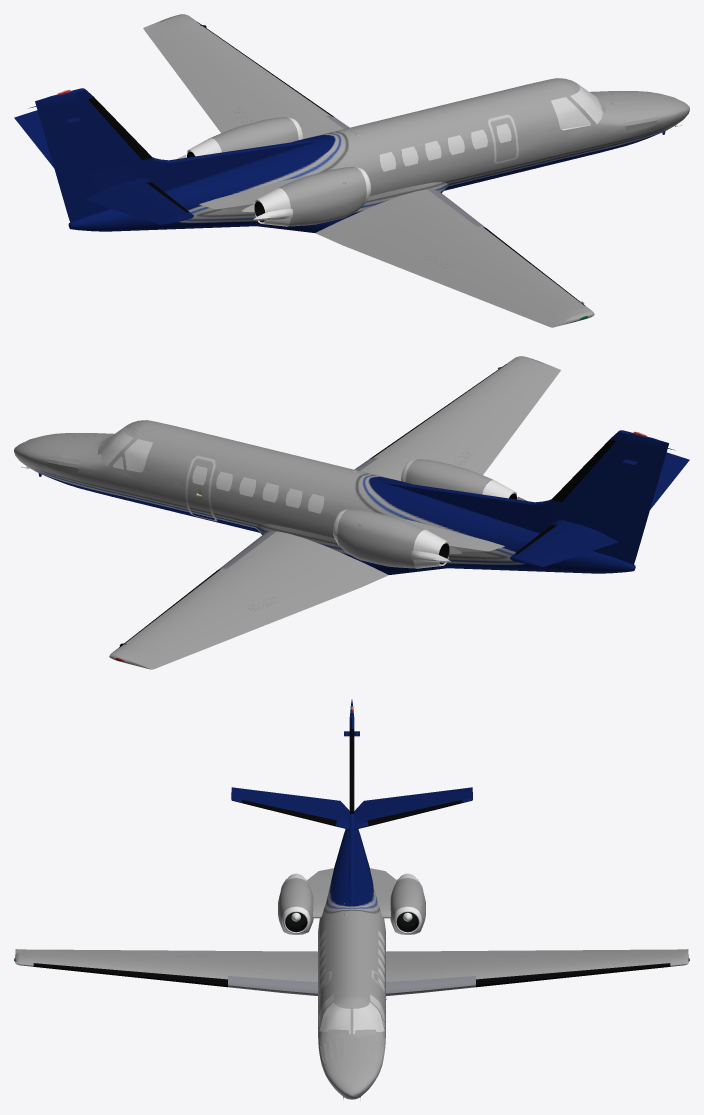
3 views of the same model, one above another, from view 1: azimuth 30°, elevation 25°; view 2: azimuth 150°, elevation 25°; view 3: azimuth 270°, elevation 25° (orthographic). The views are drawn at different scales.
Visible parts, largest first — view 1: Fuselage, Fin, RHwing.002, LHwing.003, RHwing.003, REngine, Rudder, LHwing.002, RHwing.001, LEngine, RHflap, Glass.001 (+11 smaller); view 2: Fuselage, Fin, LHwing.002, RHwing.003, LHwing.003, LEngine, Rudder, RHwing.002, LHwing.001, REngine, LHflap, Cabin.door (+13 smaller); view 3: Fuselage, LHwing.002, RHwing.002, LHwing.003, RHwing.003, Hstab, Glass, Pylons, LEngine, REngine, Hstab.001, LHwing.001 (+8 smaller).
Part boxes in pixels (x1,y1,x2,y2): Fuselage: (68,78,689,232); Fin: (56,88,326,222); RHwing.002: (366,203,517,275); LHwing.003: (143,14,283,103); RHwing.003: (456,254,594,327); REngine: (279,167,366,226); Rudder: (29,90,106,217); LHwing.002: (222,83,343,138); RHwing.001: (315,189,445,245); LEngine: (211,117,298,152); RHflap: (343,234,455,283); Glass.001: (379,123,511,171); Fuselage: (14,420,635,574); Fin: (377,430,647,564); LHwing.002: (186,546,337,617); RHwing.003: (420,356,560,445); LHwing.003: (109,596,247,669); LEngine: (337,509,425,568); Rudder: (597,432,675,559); RHwing.002: (360,425,481,480); LHwing.001: (258,531,388,587); REngine: (405,459,493,494); LHflap: (248,576,360,625); Cabin.door: (174,456,217,521); Fuselage: (318,829,385,1099); LHwing.002: (419,953,544,979); RHwing.002: (159,953,284,979); LHwing.003: (544,949,689,973); RHwing.003: (14,949,159,973); Hstab: (242,793,462,829); Glass: (319,994,384,1033); Pylons: (306,868,397,918); LEngine: (390,878,425,934); REngine: (278,878,313,934); Hstab.001: (242,800,462,826); LHwing.001: (386,951,420,982).
Bounding box in the file's own units: 14.48 × 4.06 × 15.62.
Materials: 7 (5 with a texture image).
